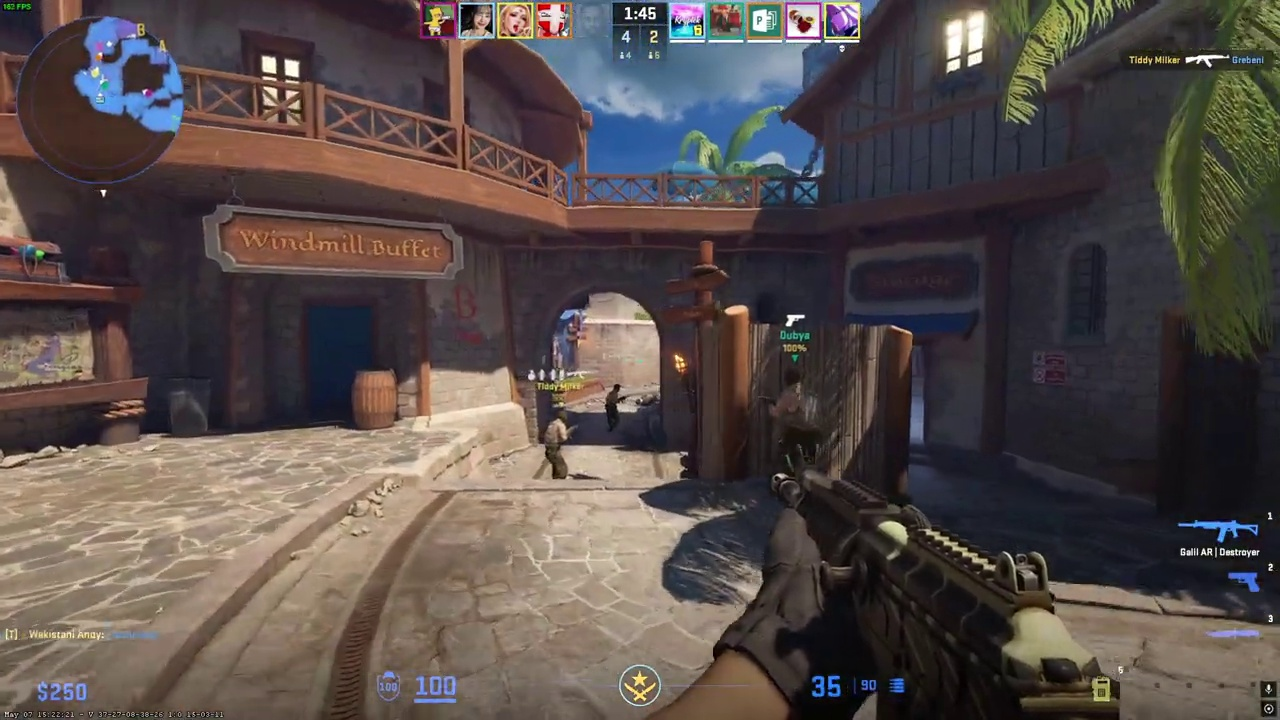Terrorist: (770, 367, 823, 474), (544, 411, 573, 480), (605, 384, 624, 433)
